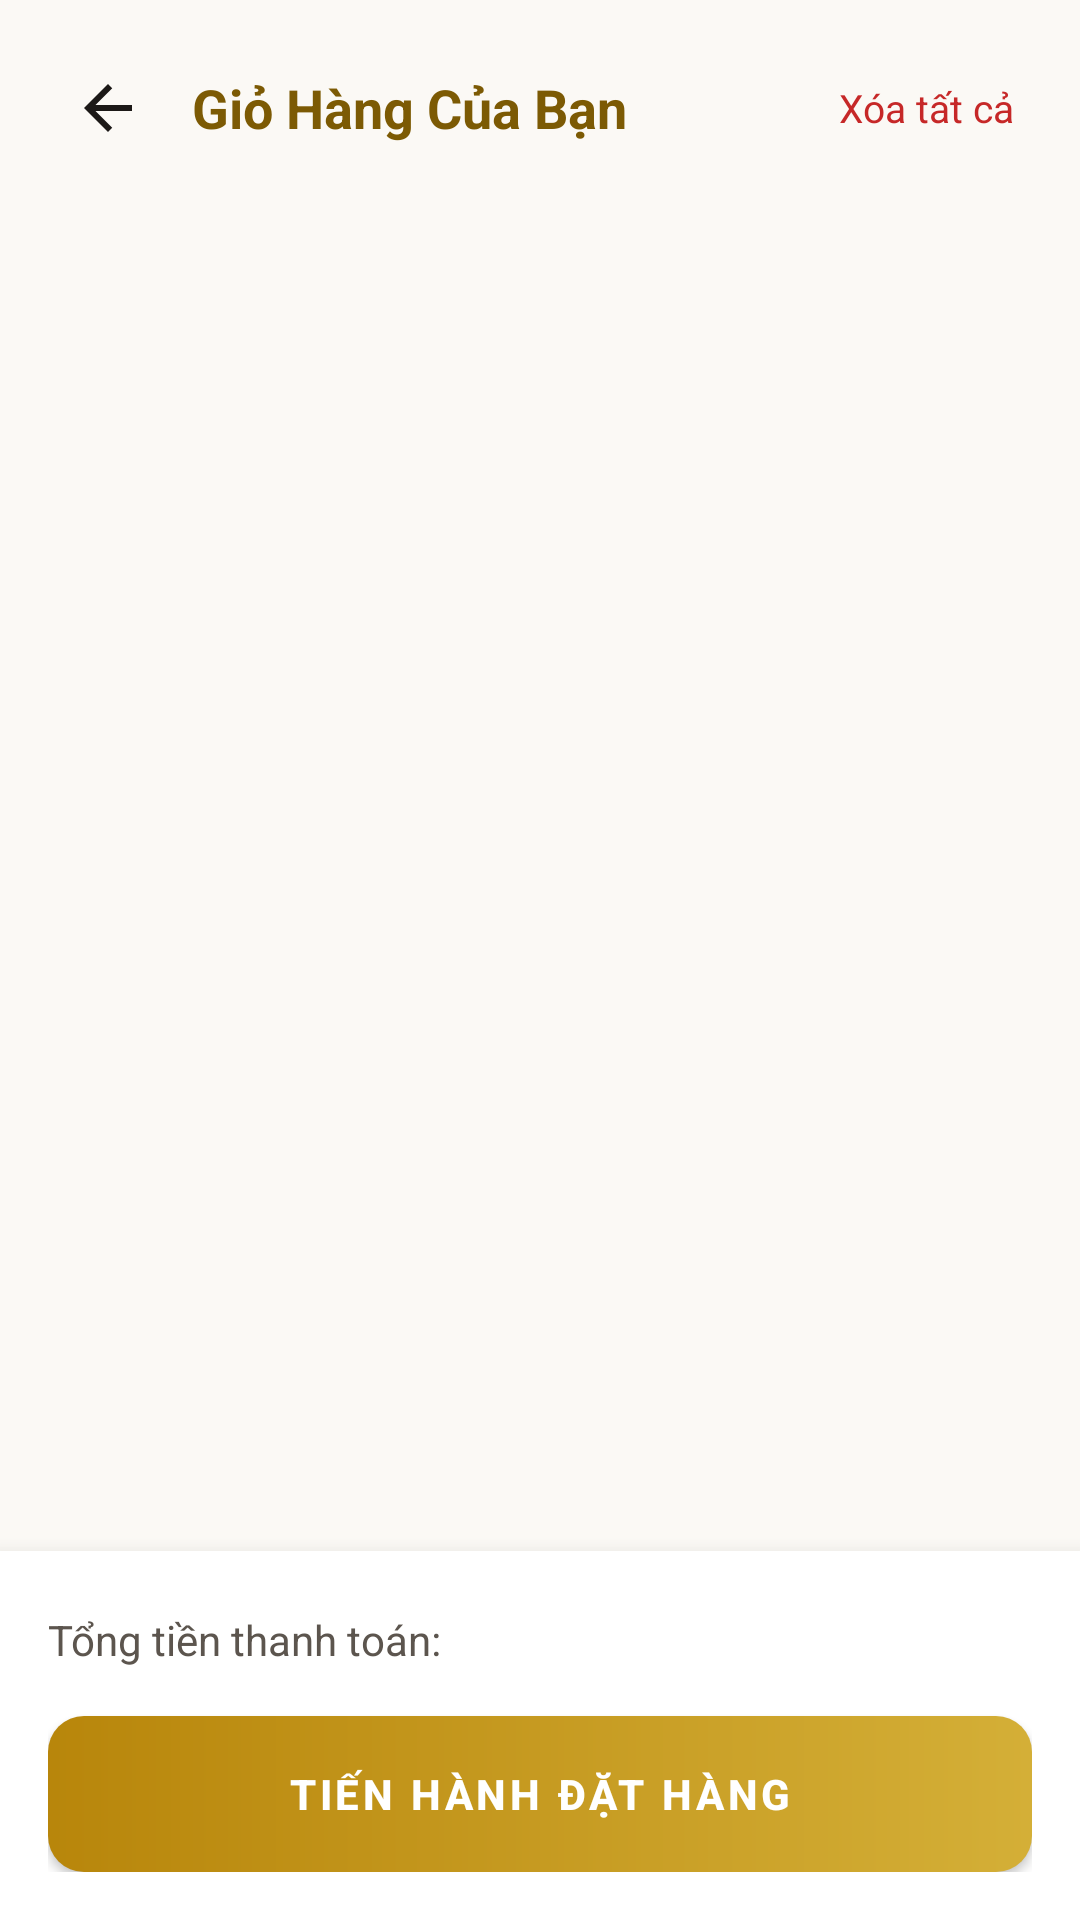

Locate icon controls on the screen. Image size 1080 × 1920, boxes as [x1, y1, x2, y2].
Quay lại: [84, 84, 132, 132]
